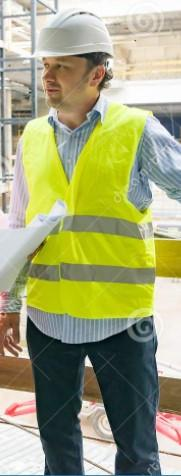hat: (17, 1, 130, 122)
vest: (15, 107, 181, 340)
